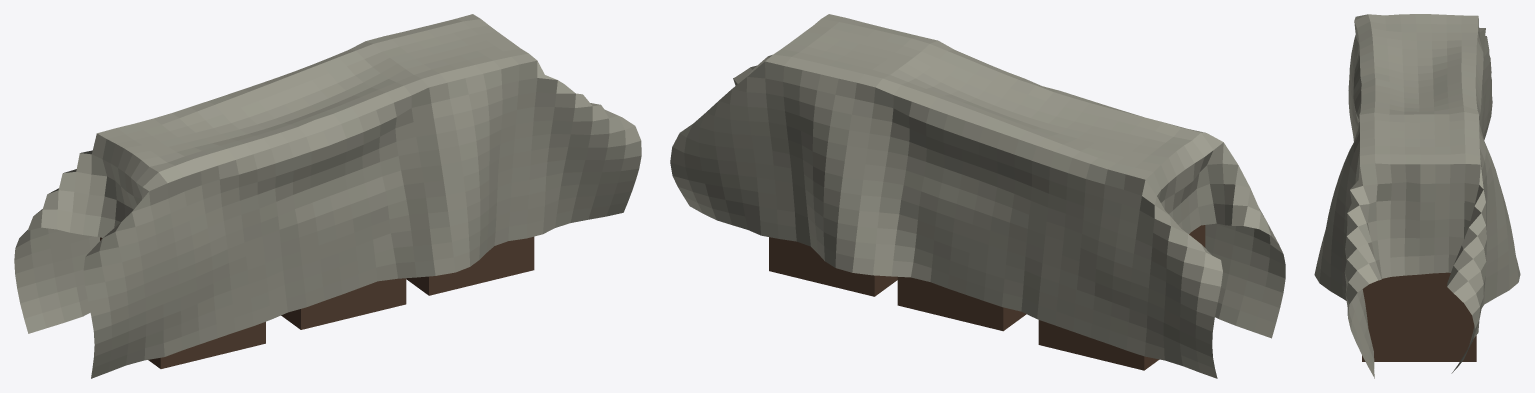
The model's file is Cloth.fbx.
3 views of the same model, side by side, from view 1: azimuth 30°, elevation 25°; view 2: azimuth 150°, elevation 25°; view 3: azimuth 270°, elevation 25° (orthographic). The views are drawn at different scales.
Visible parts, largest first — view 1: Plane, Cube.002; view 2: Plane, Cube.002; view 3: Plane, Cube.002.
Boxes of the visible parts, x1=… form: Plane: x1=14, y1=14, x2=641, y2=378; Cube.002: x1=100, y1=236, x2=534, y2=368; Plane: x1=670, y1=14, x2=1285, y2=378; Cube.002: x1=769, y1=225, x2=1205, y2=370; Plane: x1=1314, y1=14, x2=1520, y2=378; Cube.002: x1=1362, y1=272, x2=1476, y2=361.
Bounding box in the file's own units: 1051 × 402 × 359.
